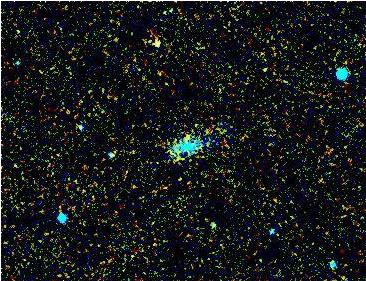star: (172, 120, 202, 150)
